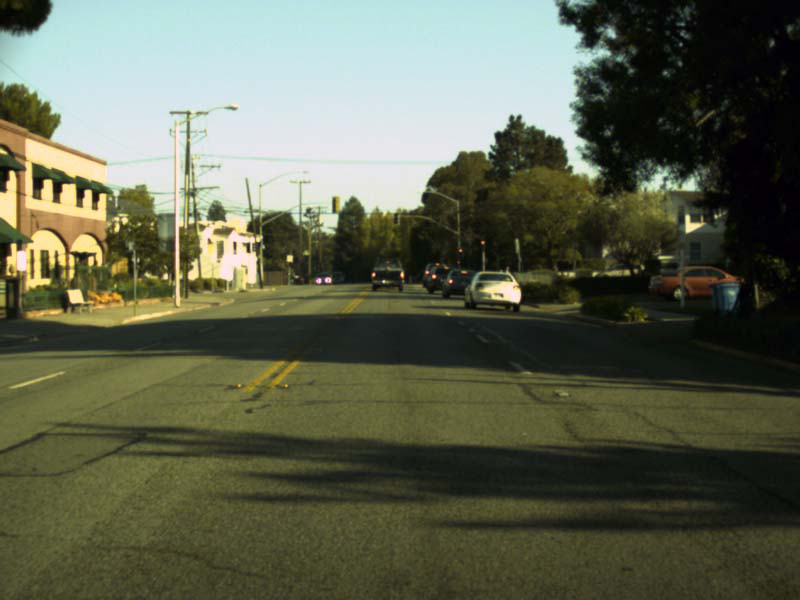Red: (479, 240, 485, 245), (457, 248, 462, 252)
